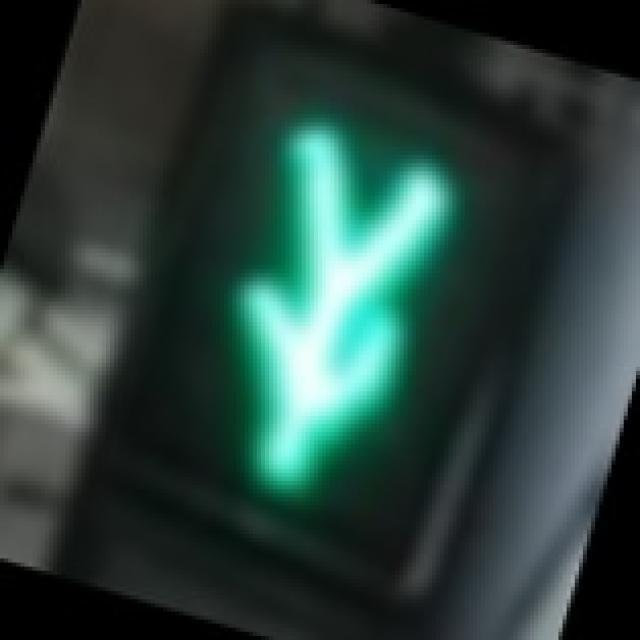geen-crossing: (110, 65, 518, 563)
